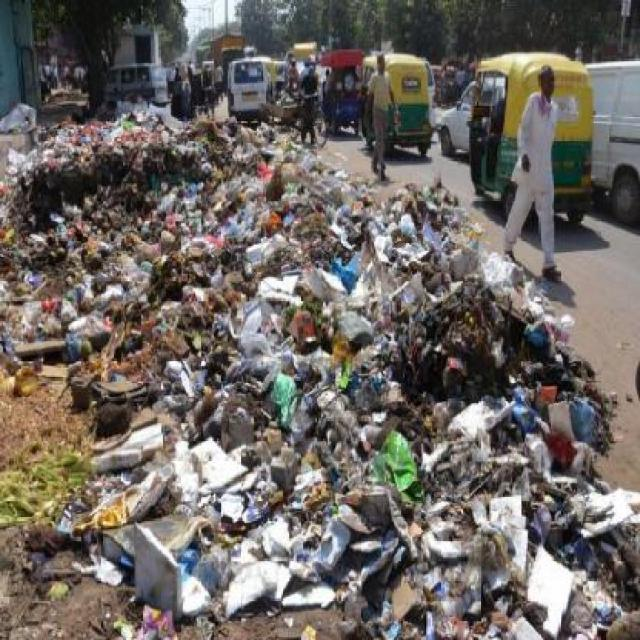garbage: (238, 175, 454, 574), (19, 125, 266, 341), (136, 305, 320, 594), (421, 346, 614, 610)
